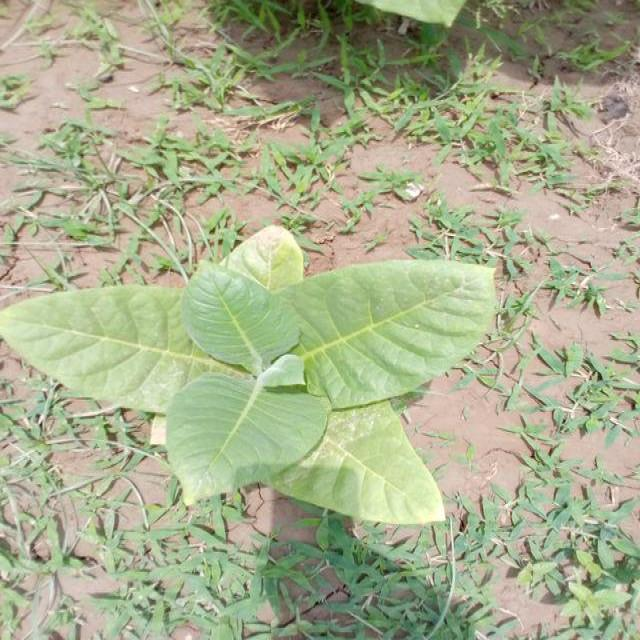crop: (1, 223, 496, 534)
